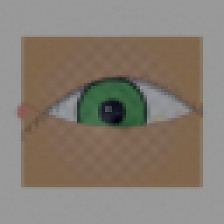pinguecula_lesion: (142, 105, 175, 132)
